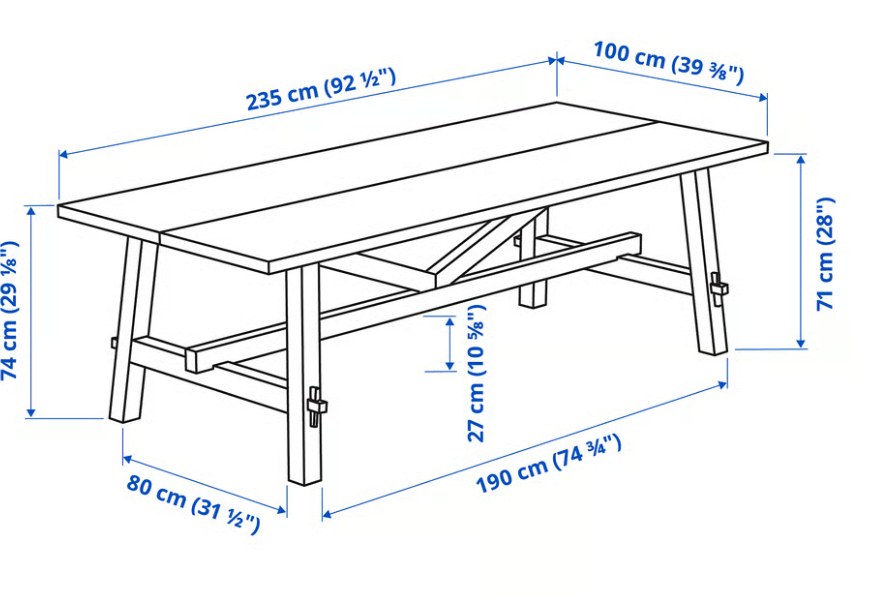table_legs: (185, 262, 327, 485), (584, 167, 728, 355), (110, 236, 186, 422), (514, 207, 584, 260), (519, 280, 547, 309)
table_support: (319, 207, 641, 340), (185, 323, 287, 373)
table_top: (58, 102, 768, 274)
